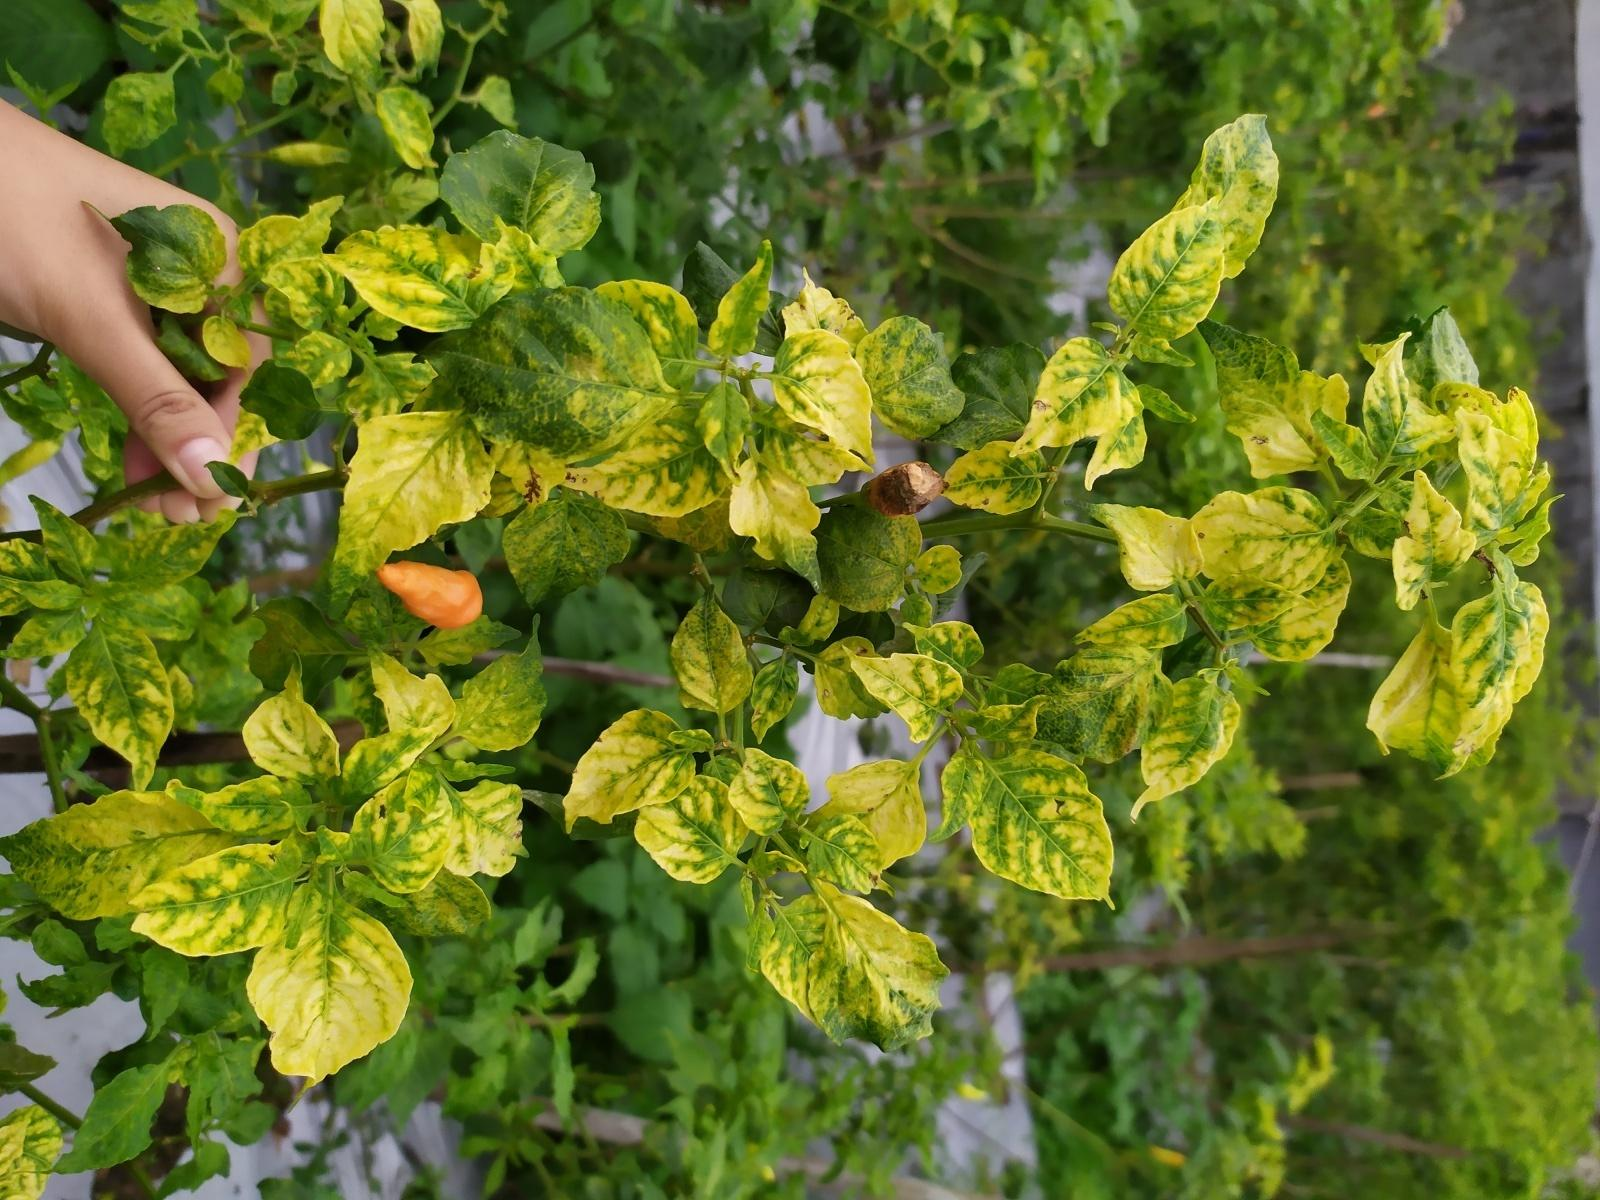antraknosa: (860, 460, 949, 517)
cabai_normal: (375, 560, 485, 628)
